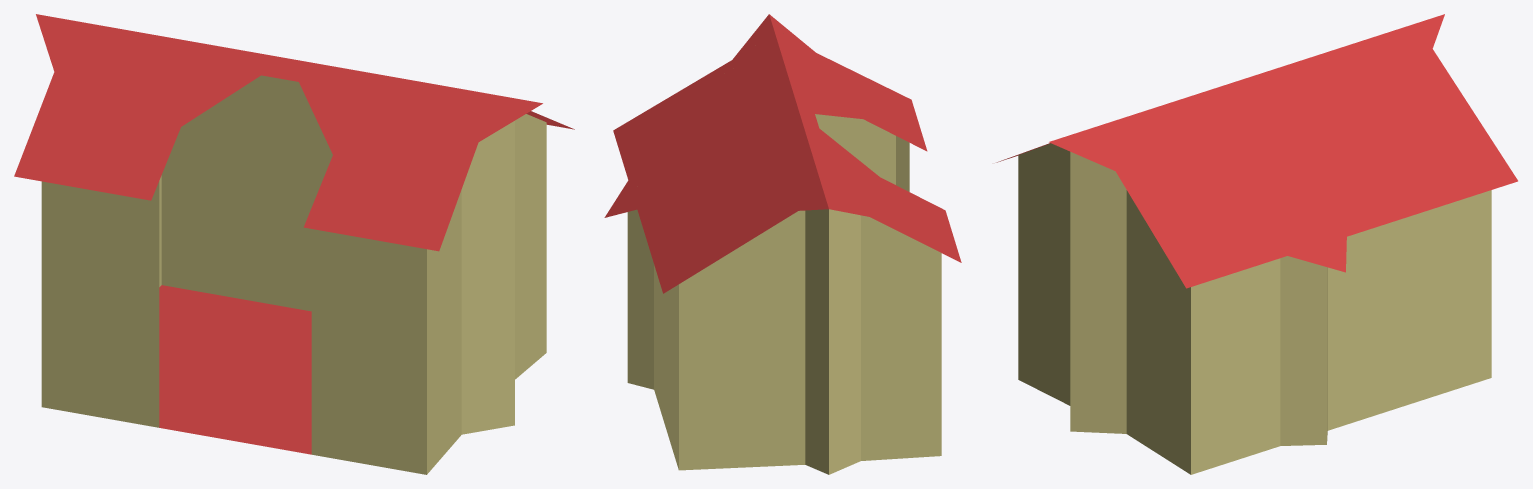
The picture shows the model from 3 angles, left to right: view 1: azimuth 30°, elevation 25°; view 2: azimuth 150°, elevation 25°; view 3: azimuth 270°, elevation 25°; orthographic projection. The views are drawn at different scales.
Bounding box in the file's own units: 19.74 × 20.43 × 12.66.
